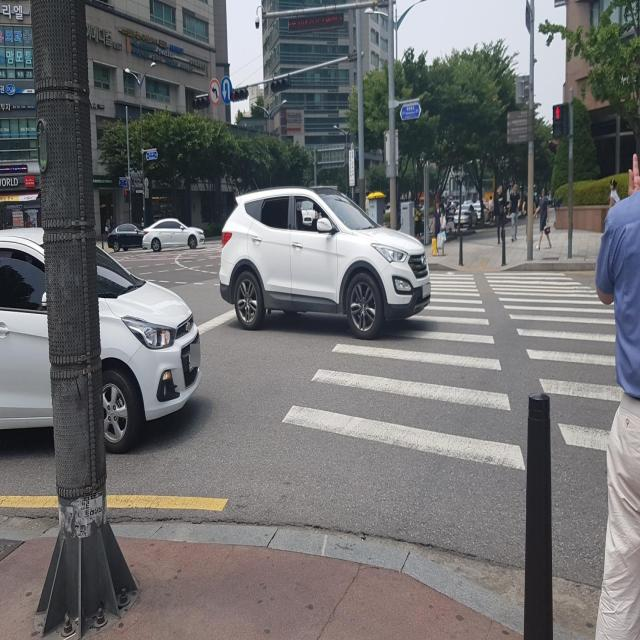빨간불: (552, 102, 570, 138)
횡단보도: (282, 269, 622, 463)
